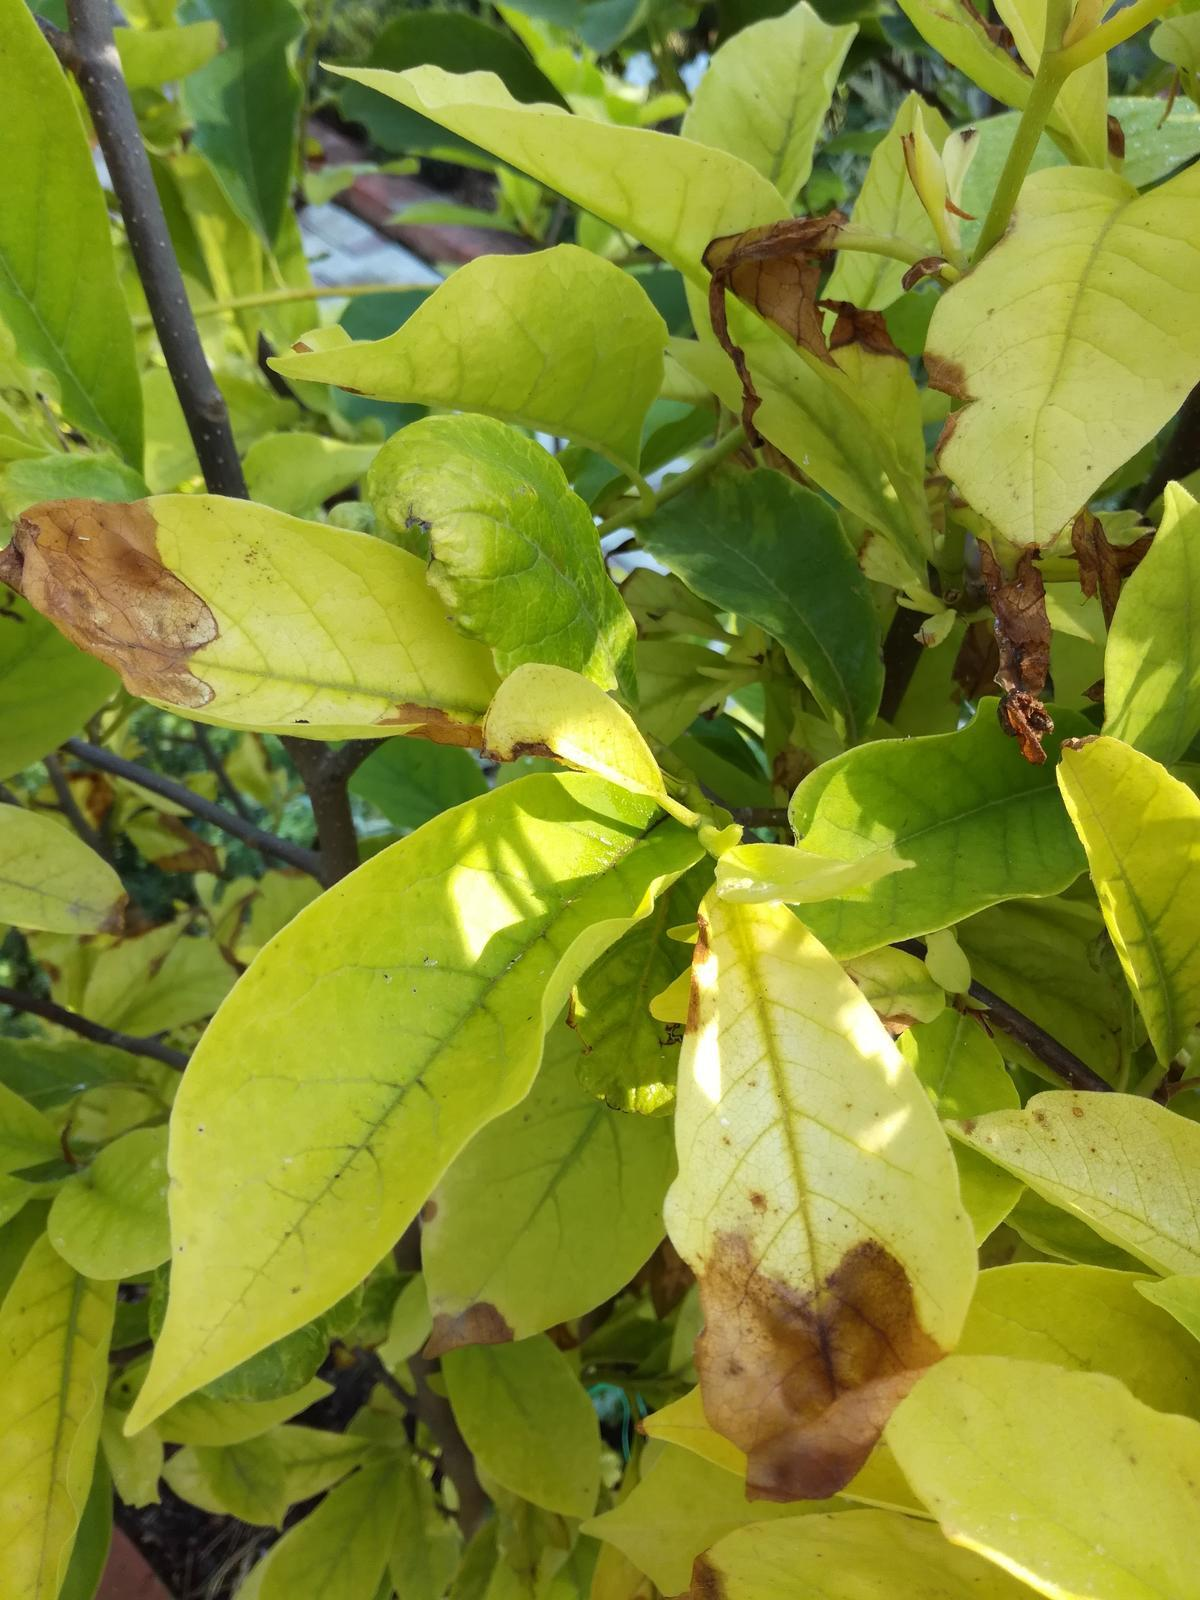late_blight: (697, 1236, 942, 1499), (0, 500, 218, 711), (384, 703, 480, 746)
